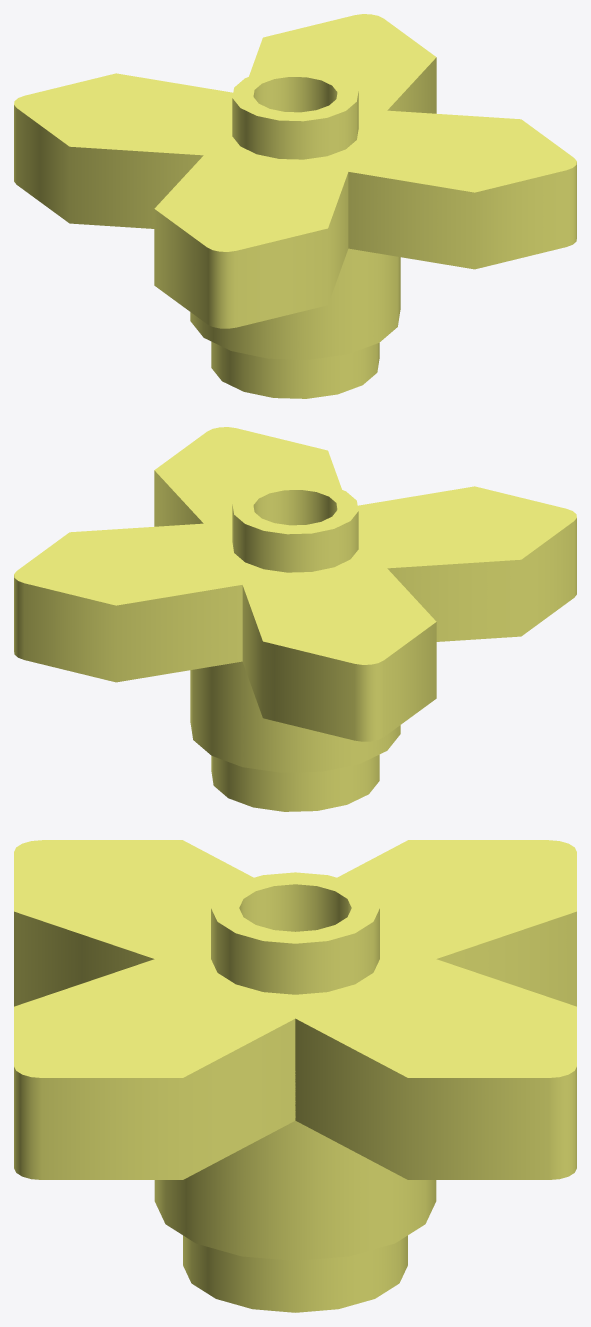
3 views of the same model, one above another, from view 1: azimuth 30°, elevation 25°; view 2: azimuth 150°, elevation 25°; view 3: azimuth 270°, elevation 25° (orthographic). The views are drawn at different scales.
Parts seen in each view (by area): view 1: 4727.dat; view 2: 4727.dat; view 3: 4727.dat.
Part boxes in pixels (x1,y1,x2,y2): 4727.dat: (14, 14, 576, 398); 4727.dat: (14, 427, 576, 811); 4727.dat: (14, 840, 576, 1312).
Size of the model in its own units: 0.016 by 0.0112 by 0.016.
